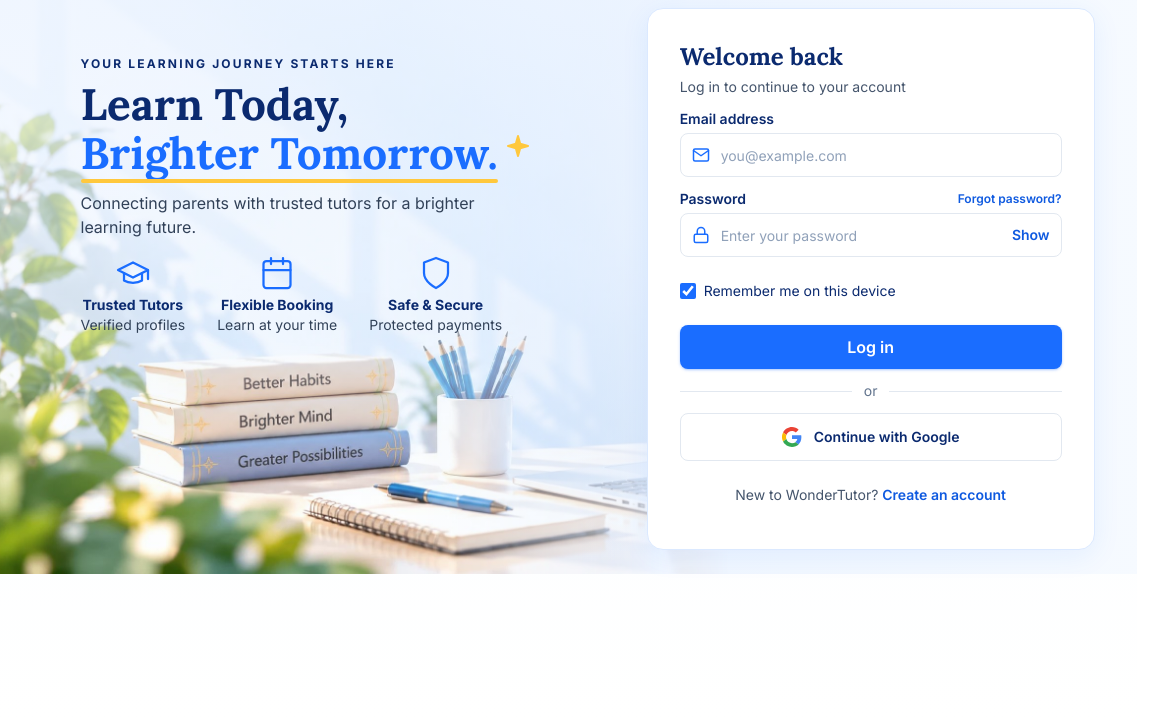
Test case: Login page › shows the server error for a wrong password and stays on the page
The width and height of the screenshot is (1152, 720).
Step 1. Type "a@b.com" into the field with placeholder "you@example.com" → x=871, y=155, box top-left (680, 133), bottom-right (1062, 177)
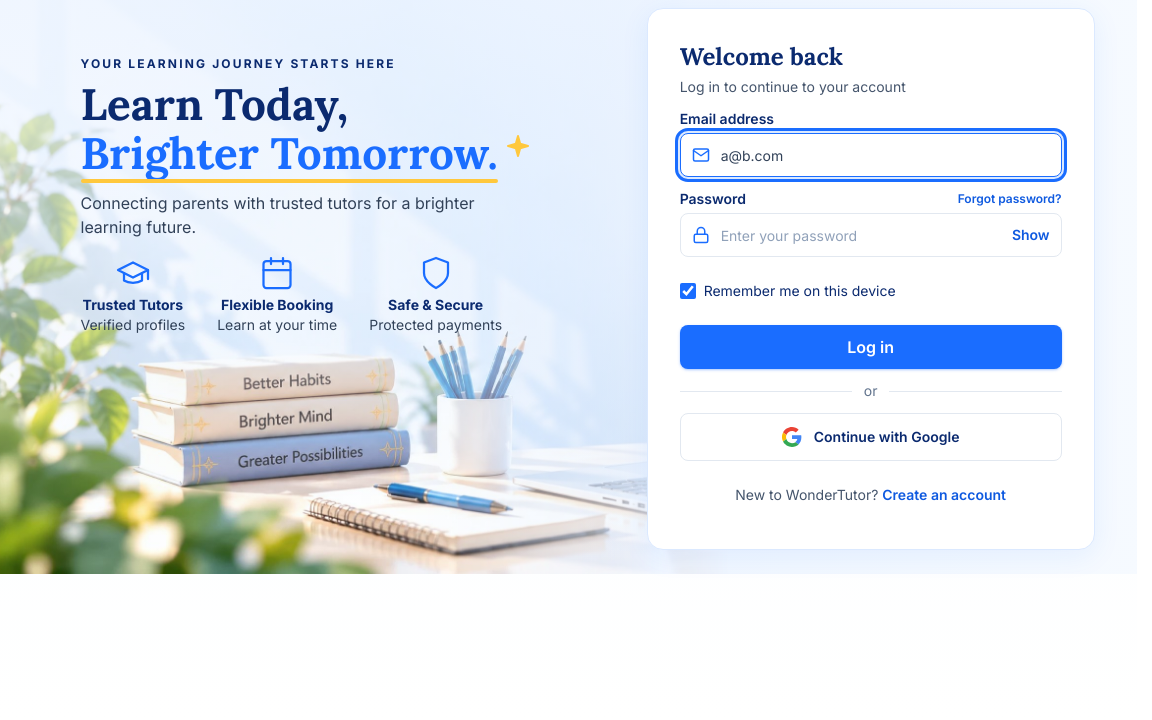
Step 2. Type "wrong" into the password field with placeholder "Enter your password" → x=871, y=235, box top-left (680, 213), bottom-right (1062, 257)
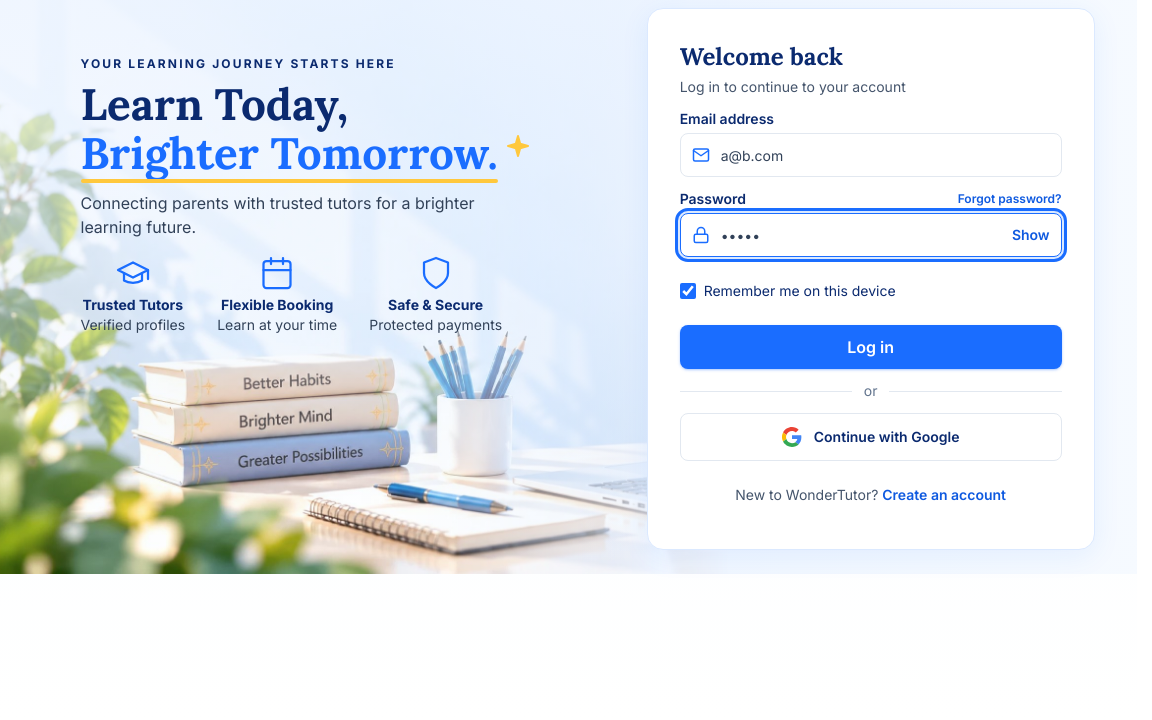
Step 3. Click the button "Log in" → x=871, y=347, box top-left (680, 325), bottom-right (1062, 369)
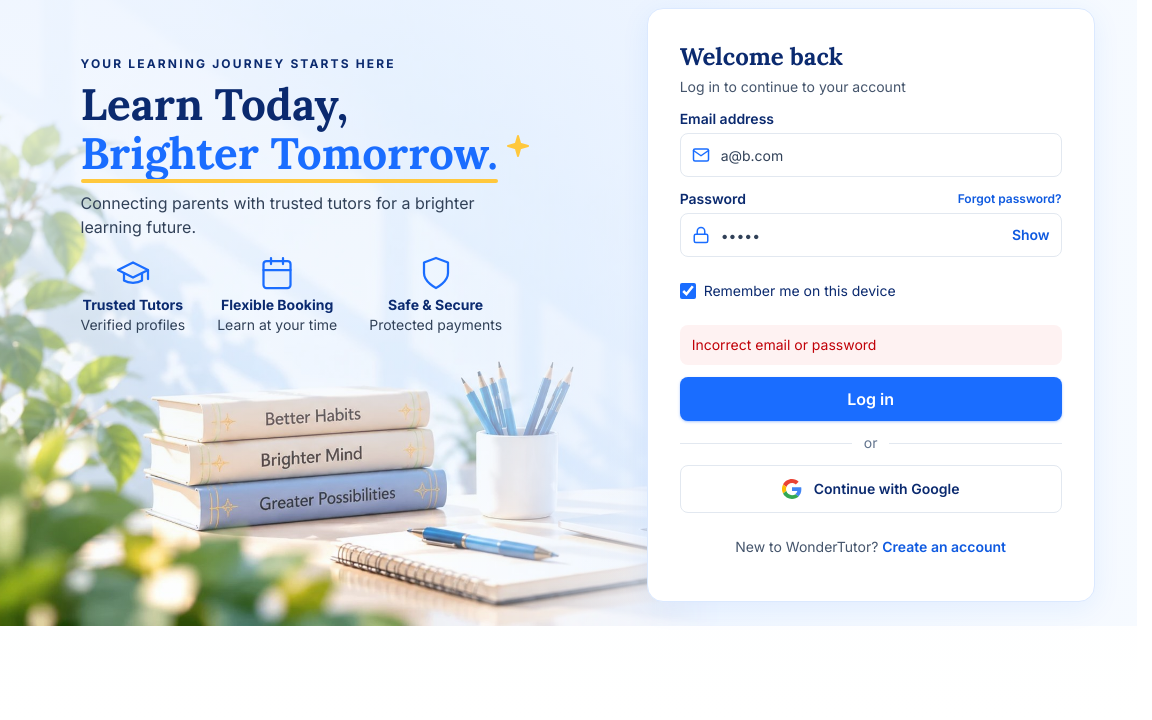
Now the text "Incorrect email or password" is shown, box top-left (680, 325), bottom-right (1062, 365)
